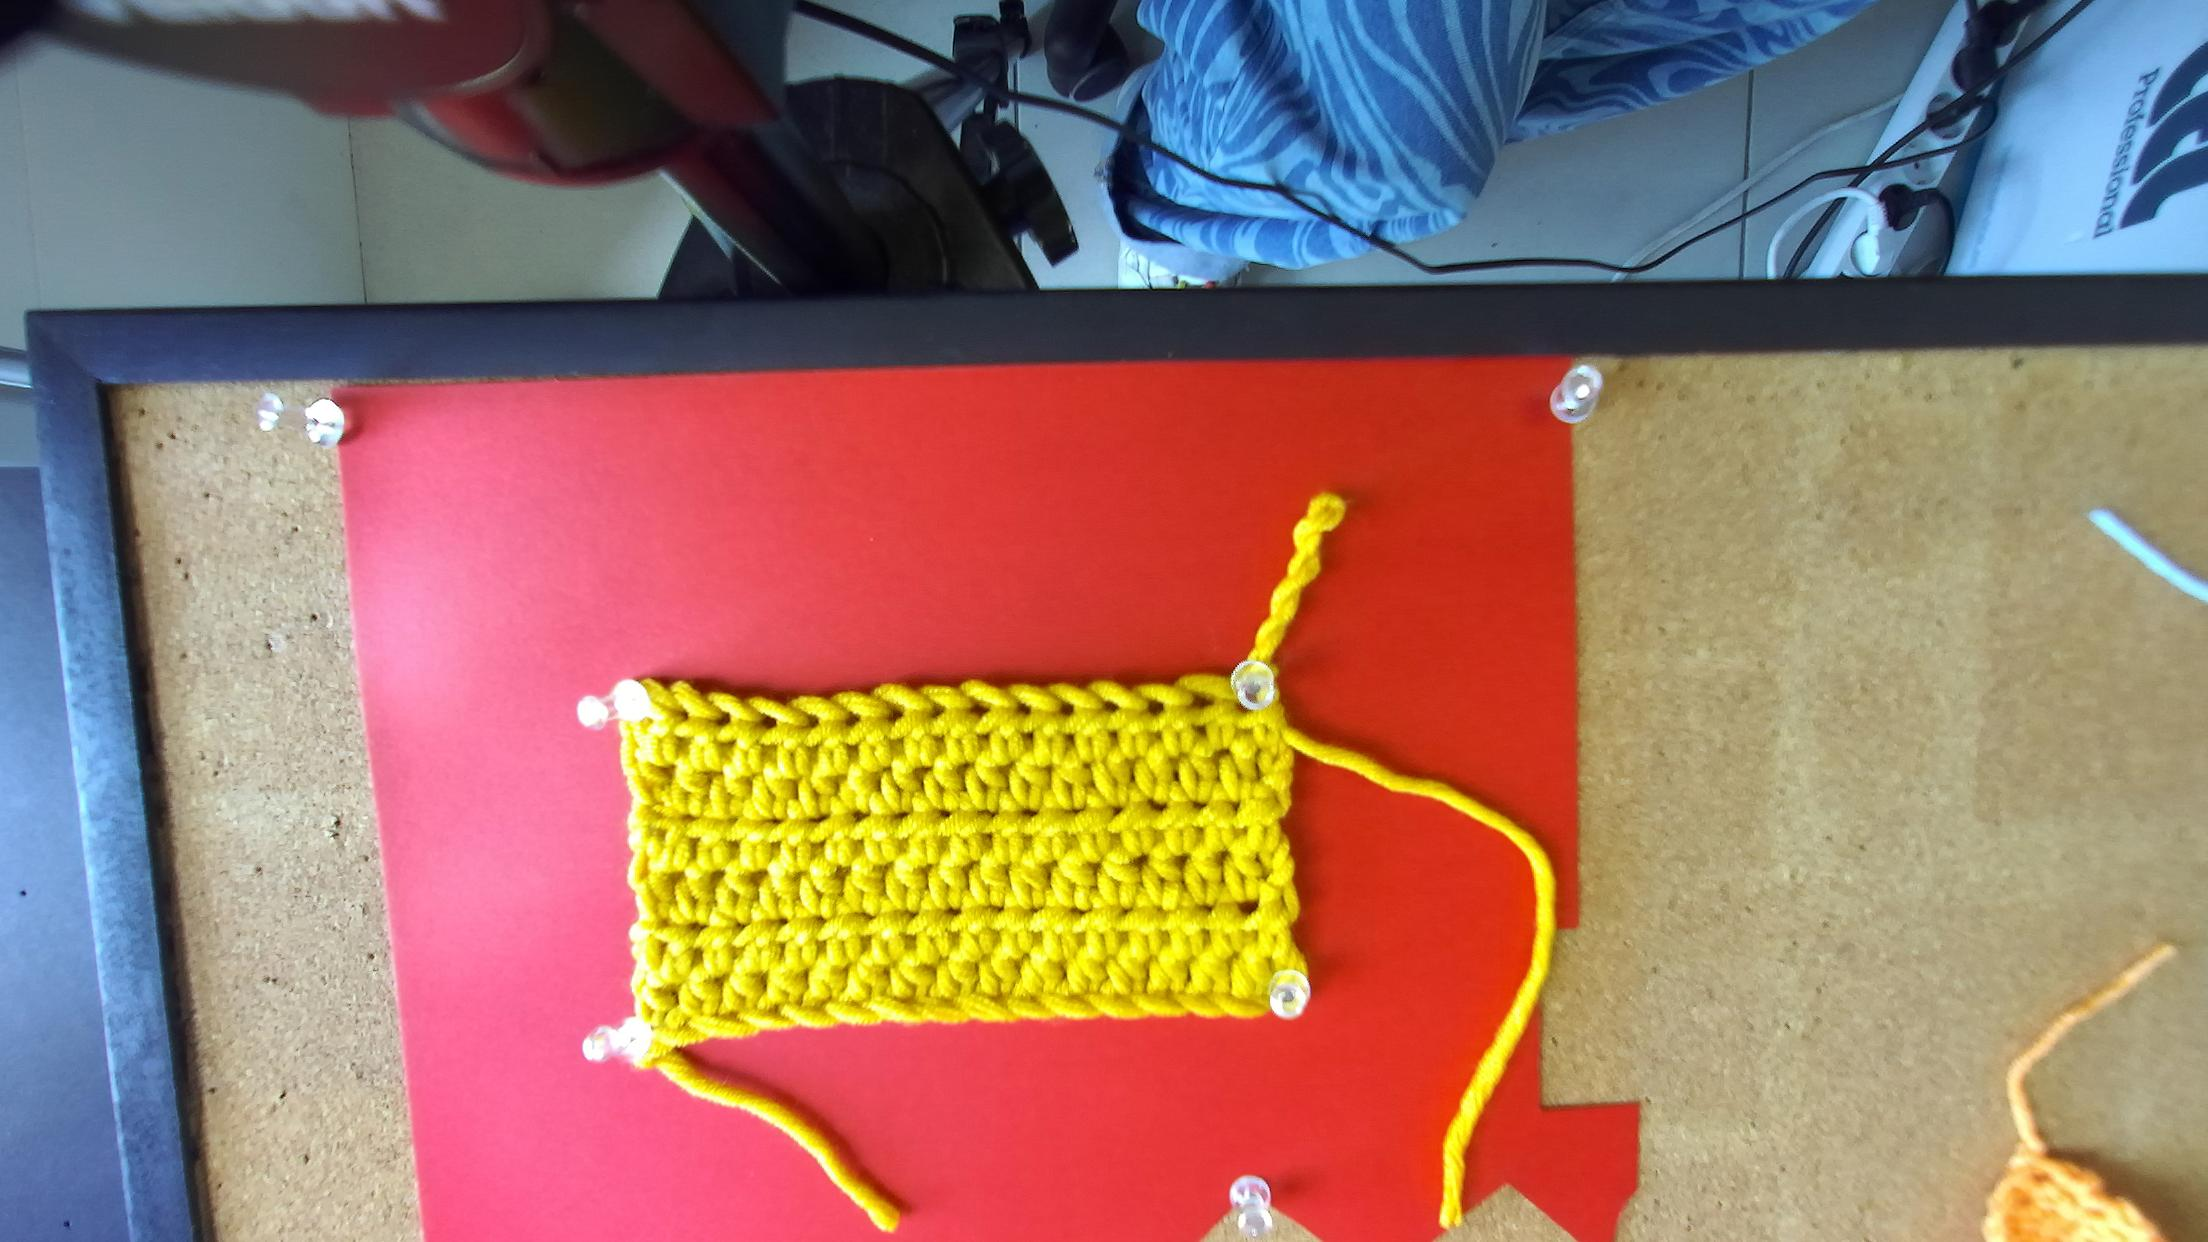hole: (964, 698, 992, 719), (1183, 693, 1215, 710), (1057, 696, 1077, 717), (672, 704, 690, 726), (884, 704, 904, 723), (1145, 699, 1166, 717), (755, 714, 778, 731), (713, 711, 732, 728), (843, 710, 860, 729), (1011, 701, 1034, 714), (1101, 699, 1122, 713), (928, 702, 945, 719), (1233, 699, 1251, 714), (804, 714, 820, 729)
swatch: (591, 658, 1318, 1052)
